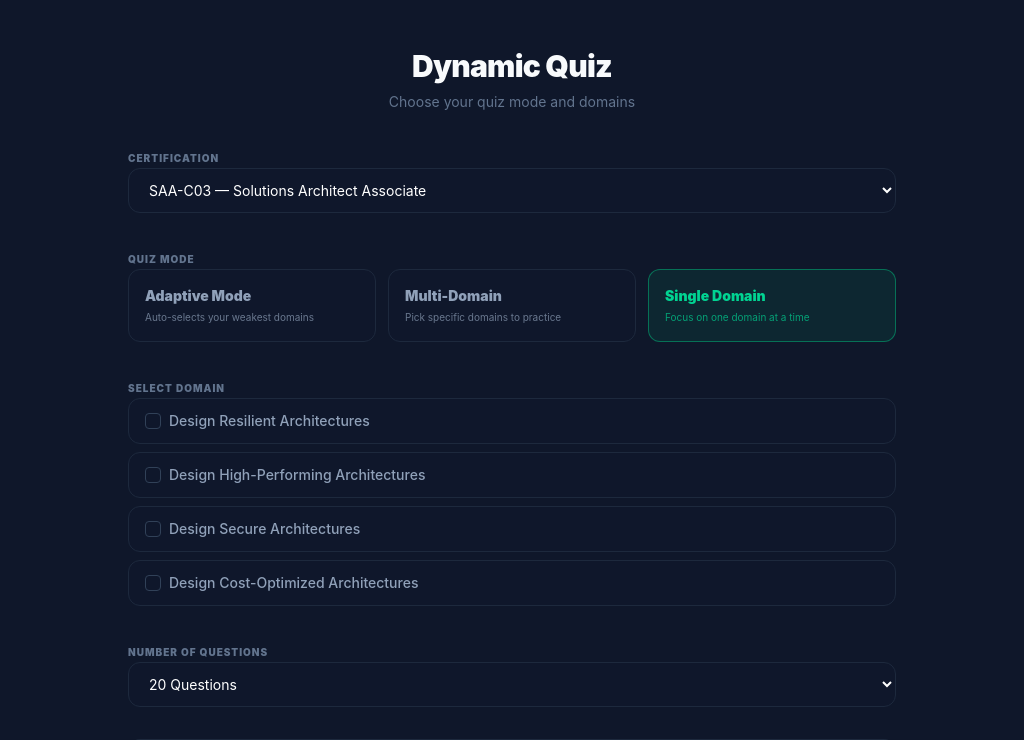
Test: DynamicQuiz - Adaptive Mode › Adaptive mode toggle › hides domain selector when adaptive mode is selected
Click adaptive mode
Click the button "Adaptive Mode": (252, 306) [128,269,376,342]
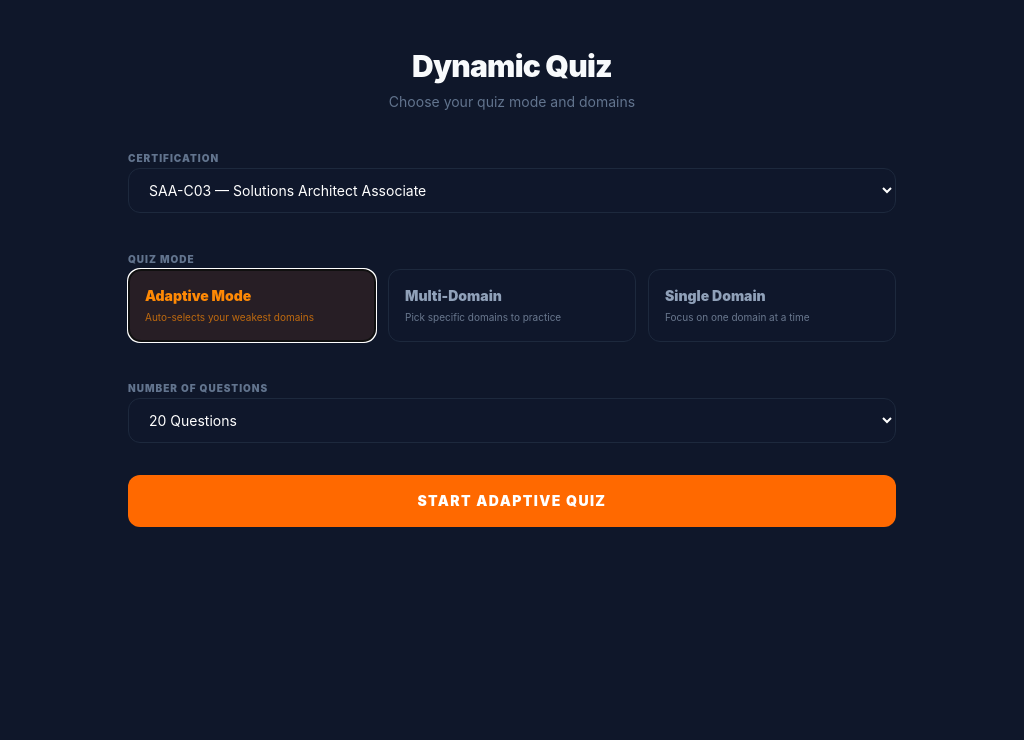
expect the text "Select Domain" is gone: met
